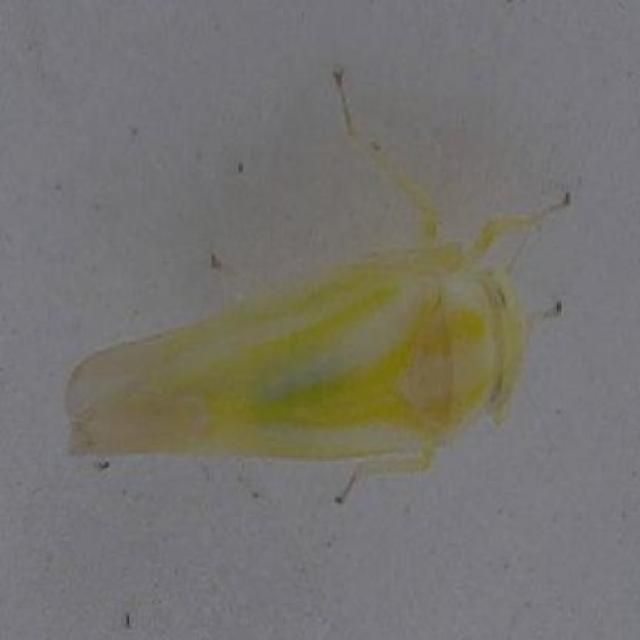green-leafhopper: (58, 208, 548, 474)
